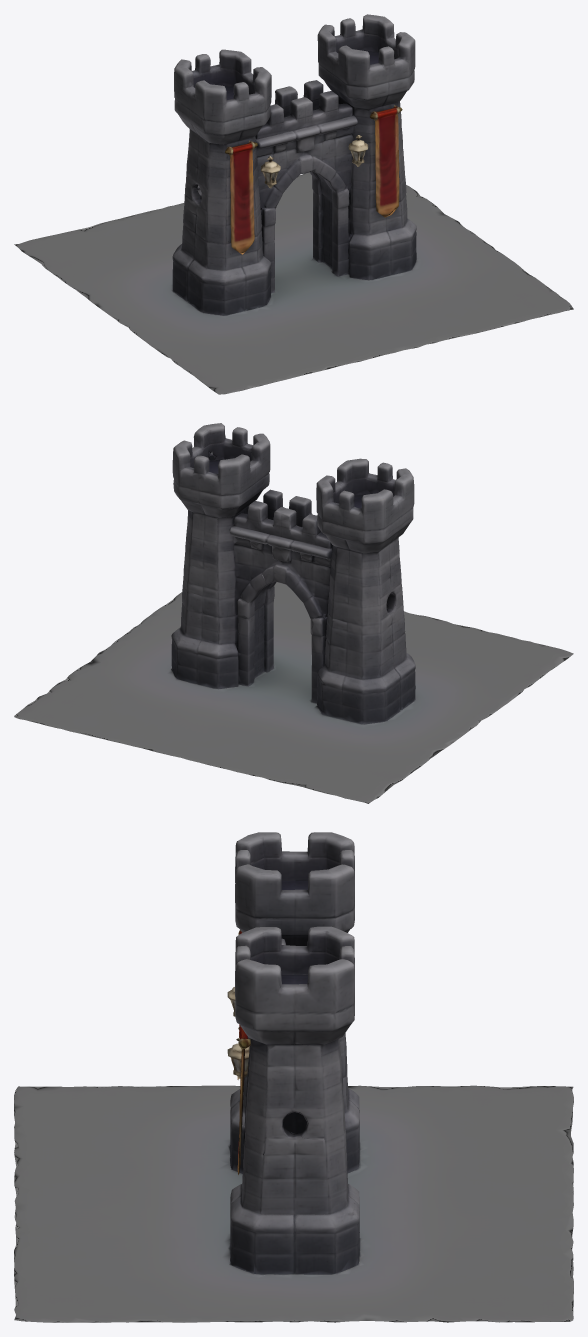
The model's file is gatehouse_t1.glb.
3 renders of one model, top to bottom at view 1: azimuth 30°, elevation 25°; view 2: azimuth 150°, elevation 25°; view 3: azimuth 270°, elevation 25°, orthographic. The views are drawn at different scales.
Parts seen in each view (by area): view 1: geometry_0; view 2: geometry_0; view 3: geometry_0.
Part boxes in pixels (x1,y1,x2,y2): geometry_0: (14, 14, 573, 394); geometry_0: (14, 423, 573, 803); geometry_0: (14, 832, 573, 1322).
Bounding box in the file's own units: 1 × 0.6005 × 1.
Materials: 1 (1 with a texture image).
